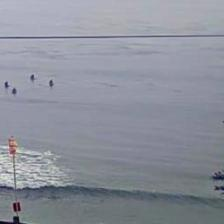surfer: (4, 80, 10, 88), (11, 87, 17, 94), (48, 79, 54, 86), (30, 74, 34, 80)
